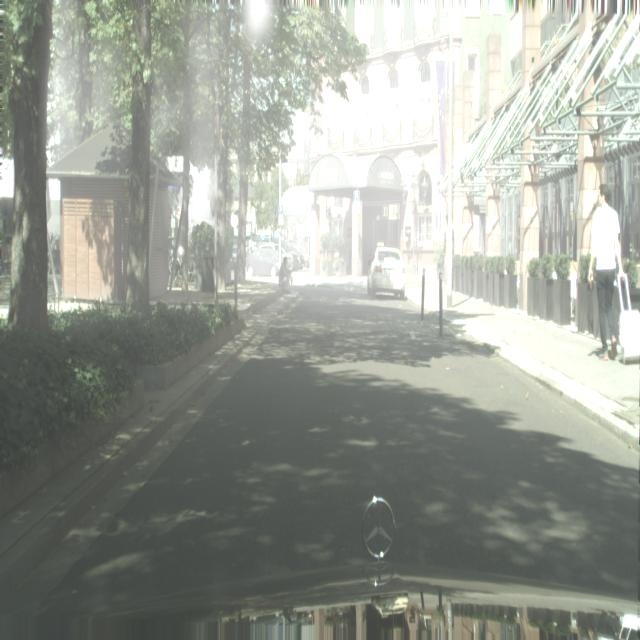person: (588, 184, 624, 360), (278, 255, 292, 294)
truck: (366, 244, 406, 299), (245, 243, 299, 279)
